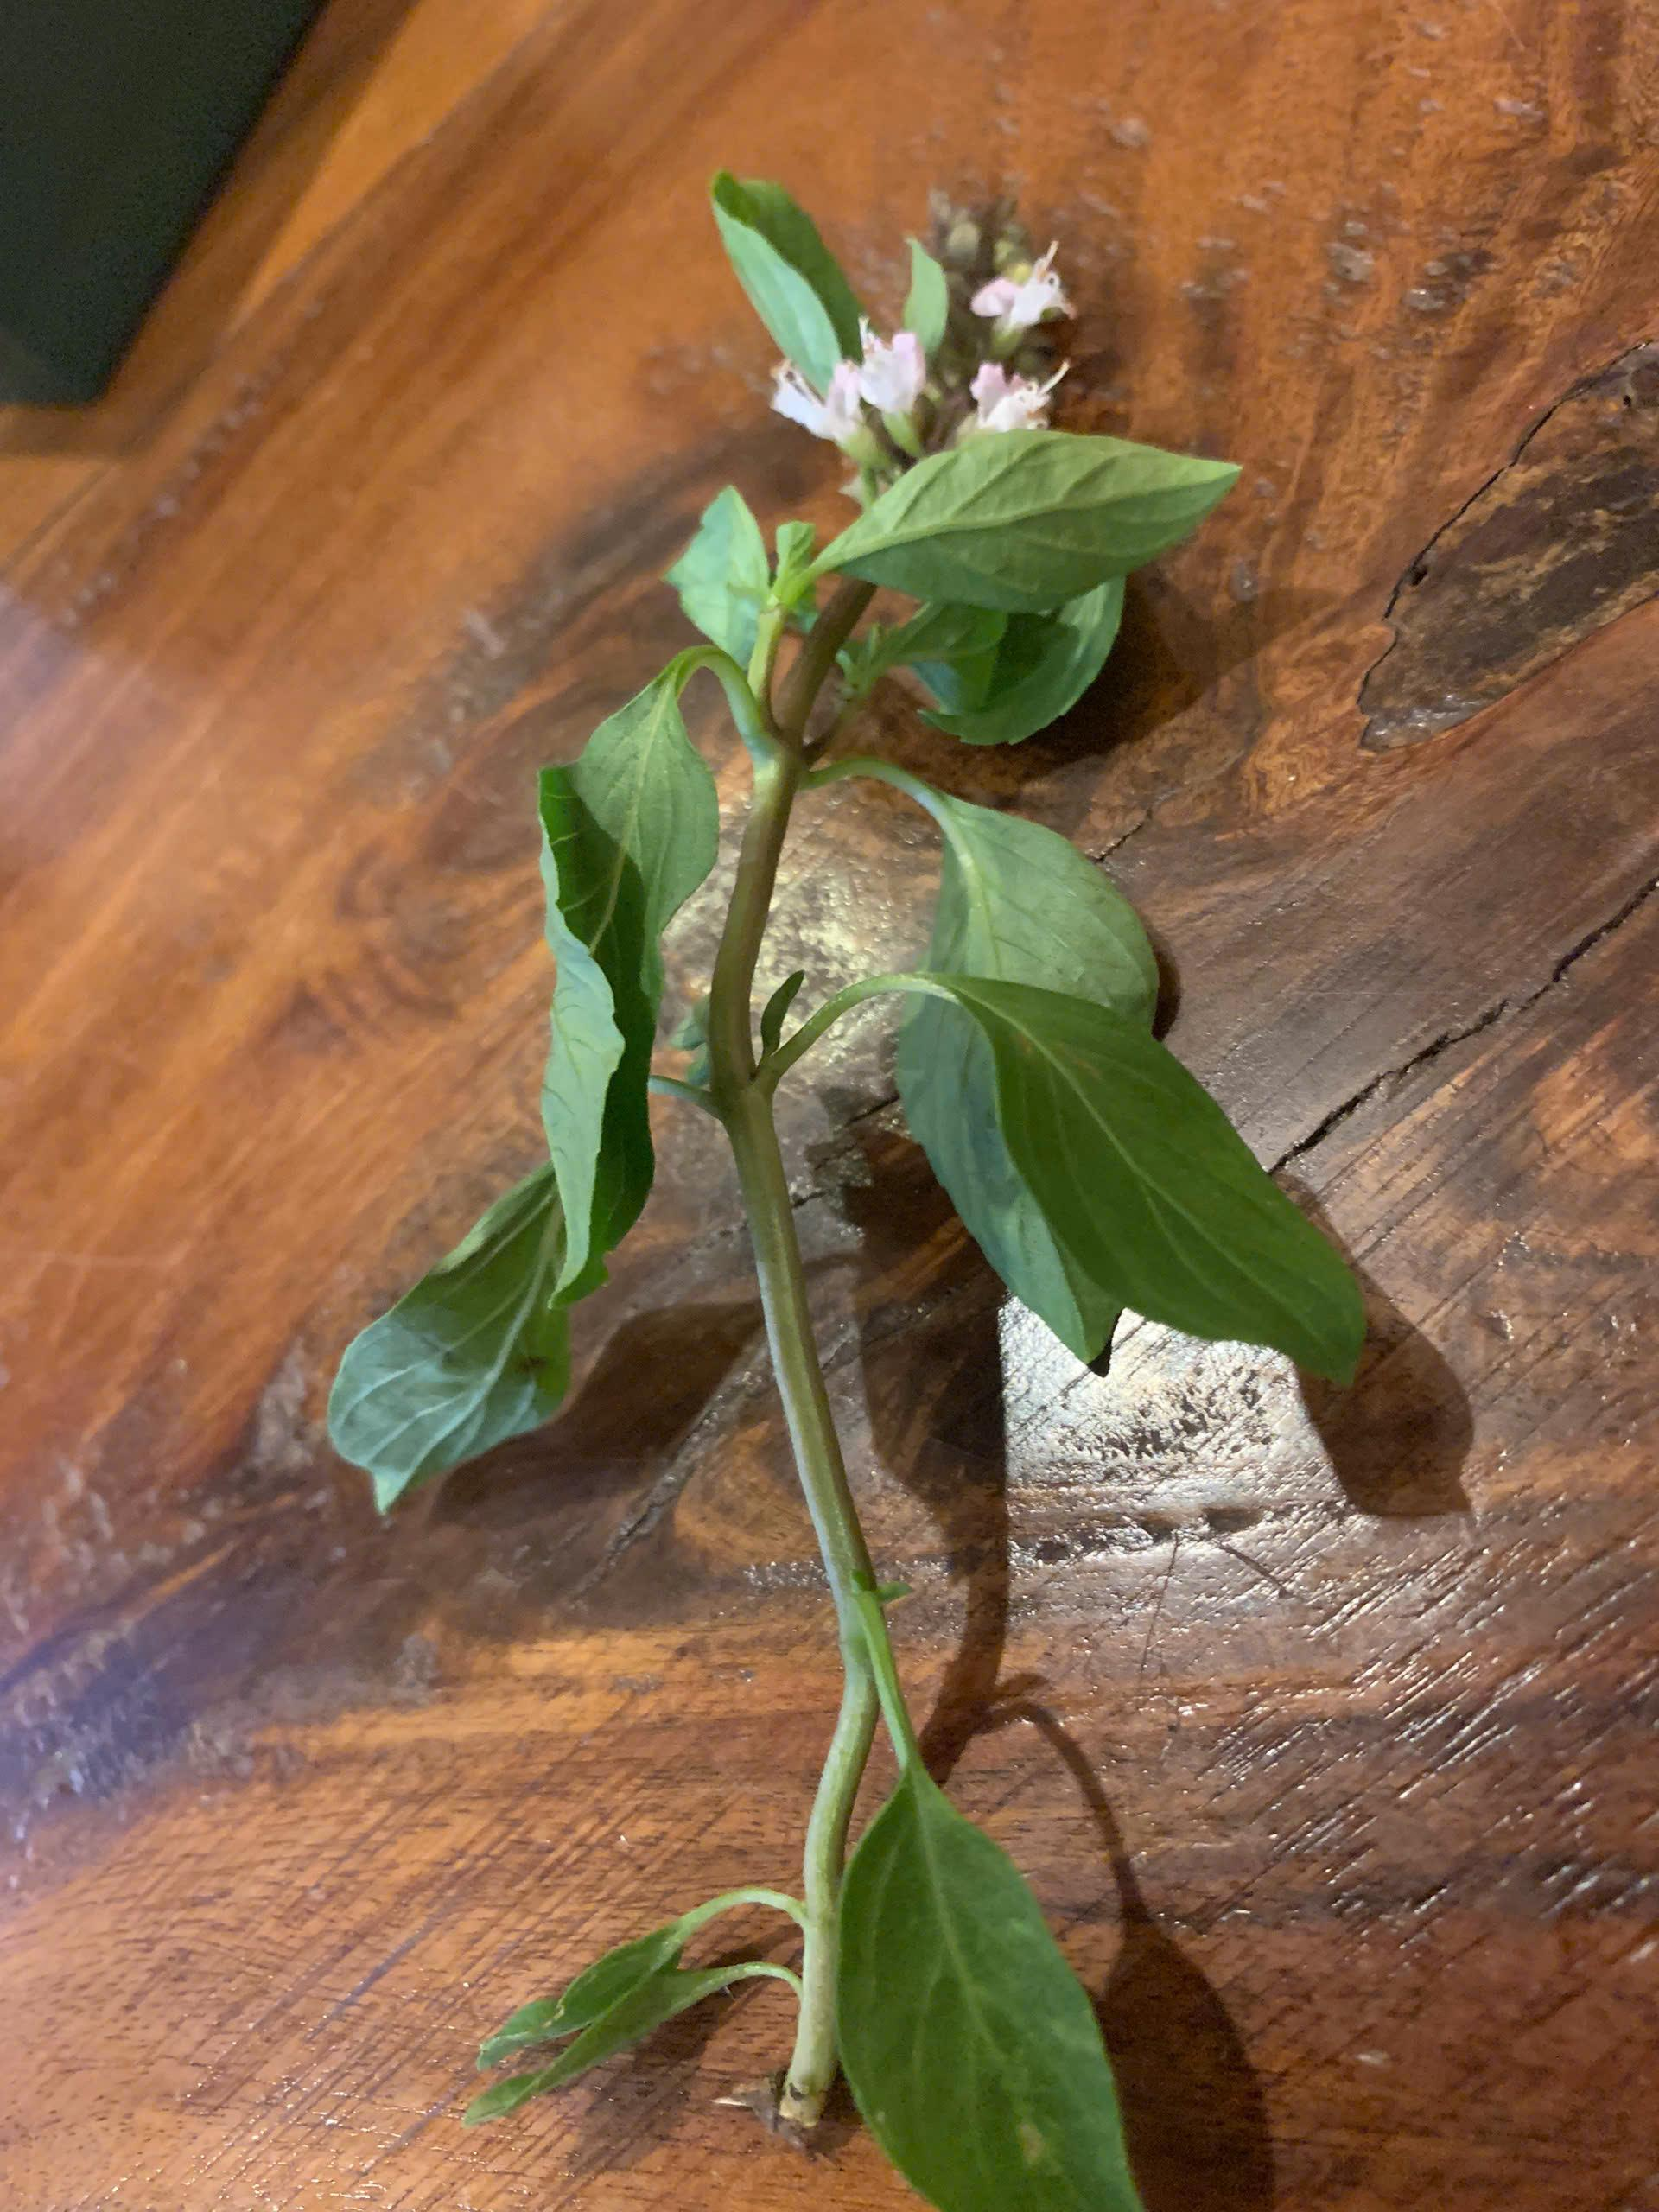Huu co: (403, 178, 1351, 2172)
